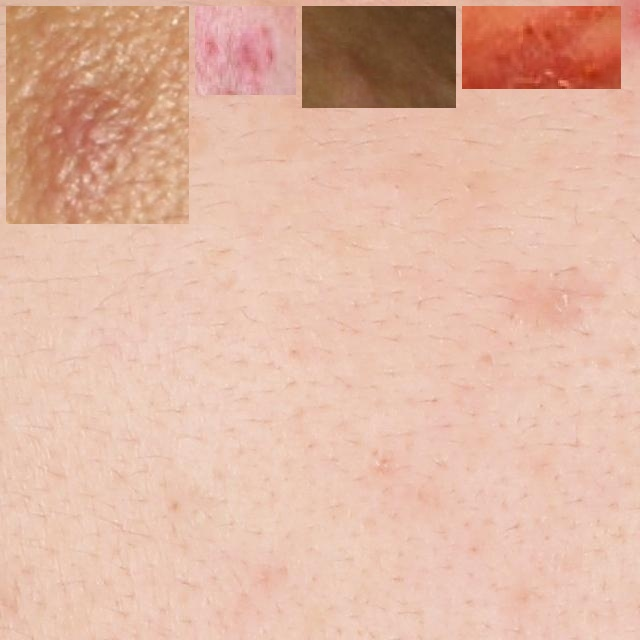nodule: (14, 14, 181, 216), (310, 14, 448, 100), (470, 14, 613, 89), (203, 14, 288, 87)
